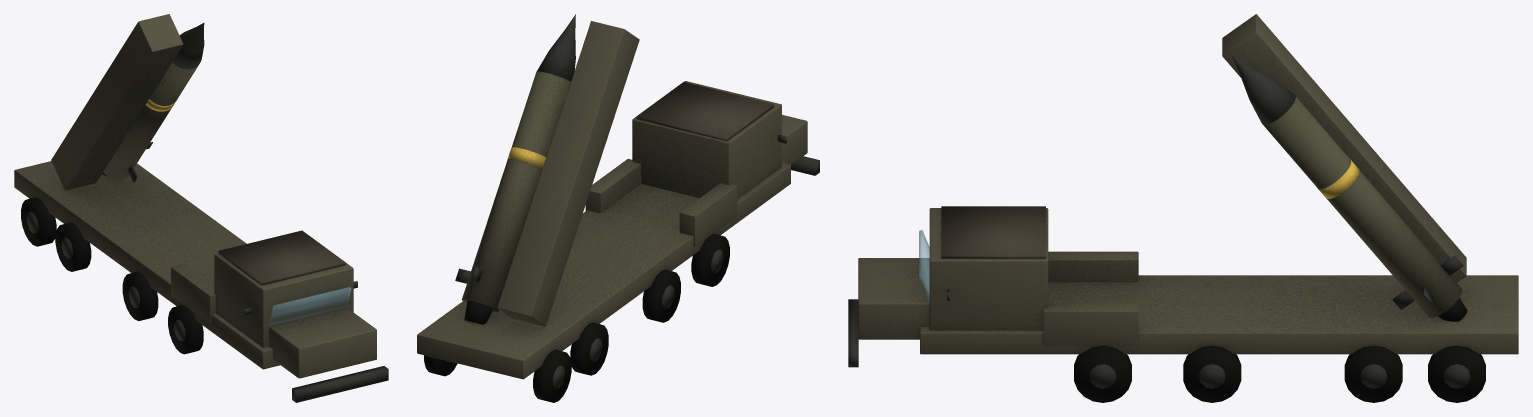
The model's file is sphere-iskander-m.glb.
3 renders of one model, left to right at view 1: azimuth 30°, elevation 25°; view 2: azimuth 150°, elevation 25°; view 3: azimuth 270°, elevation 25°, orthographic. The views are drawn at different scales.
Visible parts, largest first — view 1: frame, wind; view 2: frame; view 3: frame, wind.
Boxes of the visible parts, <box> form: frame: <box>14,14,388,402</box>; wind: <box>270,287,351,325</box>; frame: <box>417,14,819,402</box>; frame: <box>848,14,1518,402</box>; wind: <box>919,230,929,301</box>.
Bounding box in the file's own units: 3.33 × 7.8 × 14.11.
2 materials, 1 textured.
